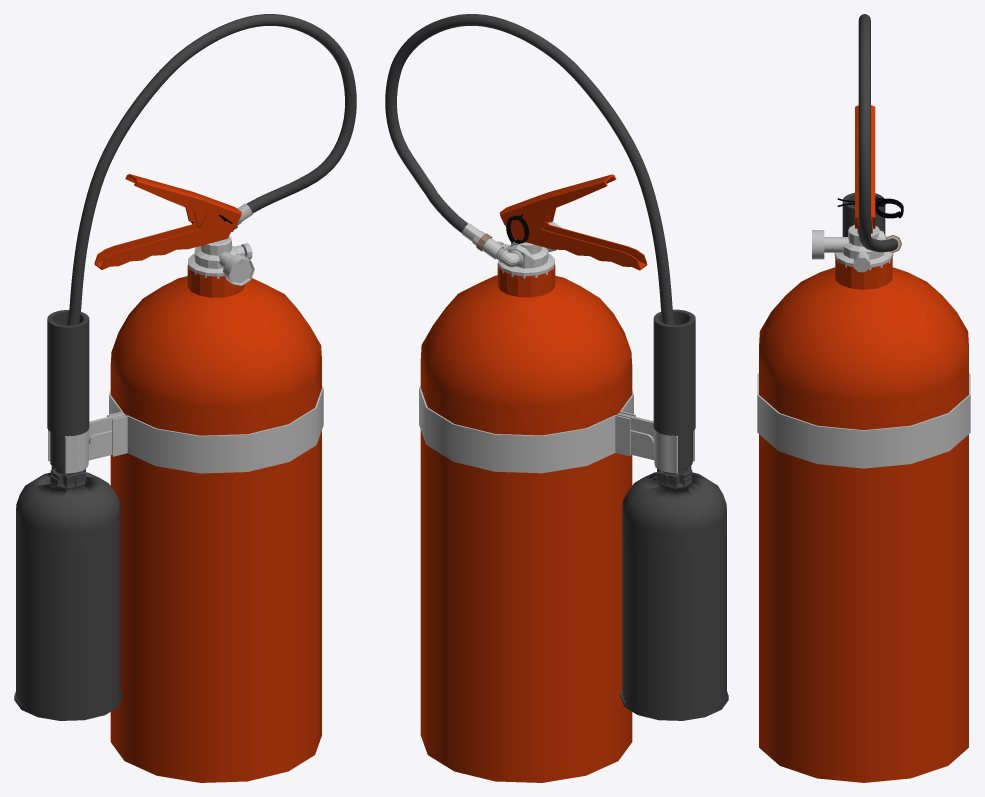
3 views of the same model, side by side, from view 1: azimuth 30°, elevation 25°; view 2: azimuth 150°, elevation 25°; view 3: azimuth 270°, elevation 25° (orthographic).
Parts seen in each view (by area): view 1: polySurface33, polySurface10, polySurface37, polySurface36, polySurface27; view 2: polySurface33, polySurface10, polySurface37, polySurface36; view 3: polySurface33, polySurface10, polySurface36, polySurface14, polySurface27.
Part boxes in pixels (x1,y1,x2,y2): polySurface33: (48, 203, 323, 782); polySurface10: (14, 14, 356, 720); polySurface37: (94, 221, 230, 269); polySurface36: (125, 174, 241, 231); polySurface27: (223, 254, 254, 285); polySurface33: (419, 223, 694, 782); polySurface10: (385, 14, 728, 720); polySurface37: (511, 221, 647, 270); polySurface36: (499, 174, 616, 232); polySurface33: (757, 224, 970, 782); polySurface10: (842, 14, 898, 252); polySurface36: (855, 105, 875, 228); polySurface14: (837, 198, 903, 218); polySurface27: (812, 230, 824, 259).
Bounding box in the file's own units: 28.38 × 57.72 × 15.4.
